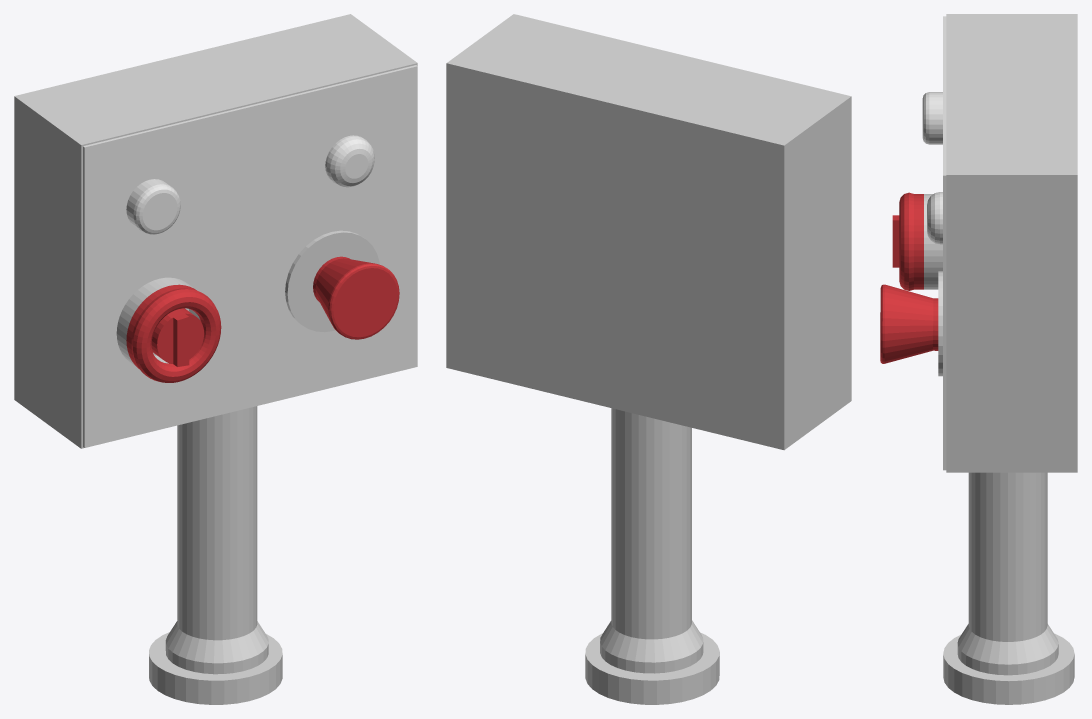
File: tournette (1).fbx
3 renders of one model, left to right at view 1: azimuth 30°, elevation 25°; view 2: azimuth 150°, elevation 25°; view 3: azimuth 270°, elevation 25°, orthographic. The views are drawn at different scales.
Visible parts, largest first — view 1: avant, corps, pied, bouton4, bouton3, bouton4.001, bouton1, bouton3b, bouton2, bouton3.001; view 2: corps, pied; view 3: corps, pied, bouton4, bouton3, avant, bouton1, bouton3.001, bouton2, bouton4.001, bouton3b.
Part boxes in pixels (x1,y1,x2,y2): avant: [83, 65, 417, 447]; corps: [14, 14, 417, 448]; pied: [149, 406, 282, 704]; bouton4: [313, 256, 399, 339]; bouton3: [126, 284, 221, 382]; bouton4.001: [285, 230, 379, 332]; bouton1: [126, 179, 180, 234]; bouton3b: [151, 308, 204, 366]; bouton2: [325, 135, 374, 187]; bouton3.001: [116, 277, 199, 367]; corps: [446, 14, 851, 450]; pied: [585, 408, 719, 704]; corps: [946, 14, 1077, 472]; pied: [943, 472, 1074, 704]; bouton4: [880, 284, 938, 363]; bouton3: [899, 192, 923, 290]; avant: [943, 16, 946, 470]; bouton1: [922, 92, 942, 144]; bouton3.001: [924, 194, 942, 289]; bouton2: [927, 192, 942, 244]; bouton4.001: [938, 271, 942, 376]; bouton3b: [892, 215, 899, 267].
Bounding box in the file's own units: 290 × 490 × 150.
